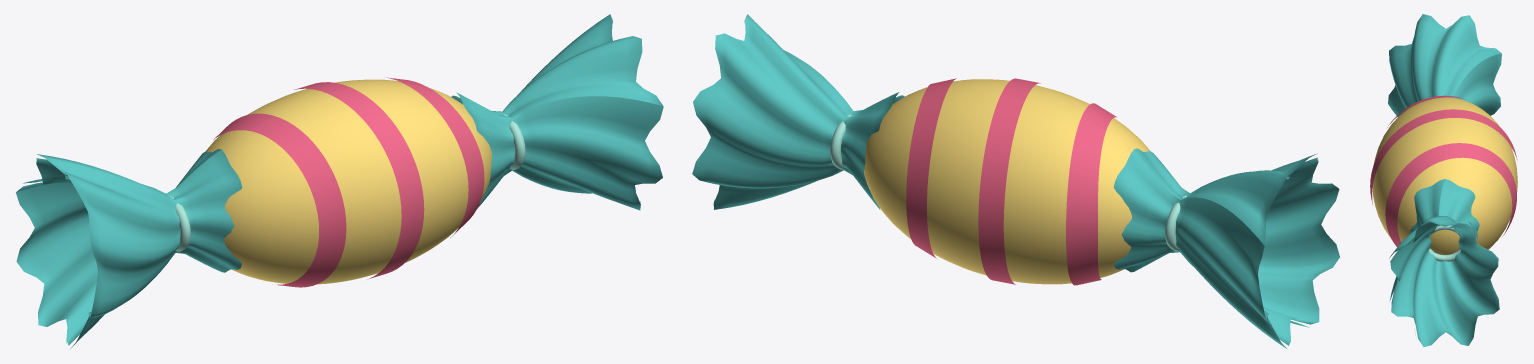
The model's file is candy.glb.
3 views of the same model, side by side, from view 1: azimuth 30°, elevation 25°; view 2: azimuth 150°, elevation 25°; view 3: azimuth 270°, elevation 25° (orthographic). The views are drawn at different scales.
Parts seen in each view (by area): view 1: Turquoise twisted wrapper, Butter yellow candy wrapper, Raspberry candy stripes, Soft mint wrapper neck; view 2: Turquoise twisted wrapper, Butter yellow candy wrapper, Raspberry candy stripes, Soft mint wrapper neck; view 3: Turquoise twisted wrapper, Butter yellow candy wrapper, Raspberry candy stripes, Soft mint wrapper neck.
Part boxes in pixels (x1,y1,x2,y2): Turquoise twisted wrapper: [16, 14, 663, 348]; Butter yellow candy wrapper: [206, 79, 491, 284]; Raspberry candy stripes: [213, 77, 484, 287]; Soft mint wrapper neck: [169, 114, 525, 251]; Turquoise twisted wrapper: [692, 14, 1339, 348]; Butter yellow candy wrapper: [864, 79, 1149, 284]; Raspberry candy stripes: [906, 78, 1116, 285]; Soft mint wrapper neck: [830, 114, 1186, 251]; Turquoise twisted wrapper: [1388, 14, 1501, 346]; Butter yellow candy wrapper: [1372, 97, 1517, 254]; Raspberry candy stripes: [1370, 95, 1517, 246]; Soft mint wrapper neck: [1429, 225, 1460, 261].
Size of the model in its own units: 0.0967 by 0.0296 by 0.0296.
